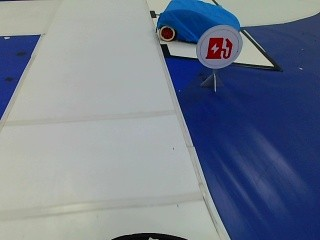battery: (196, 26, 243, 65)
car: (151, 0, 242, 44)
